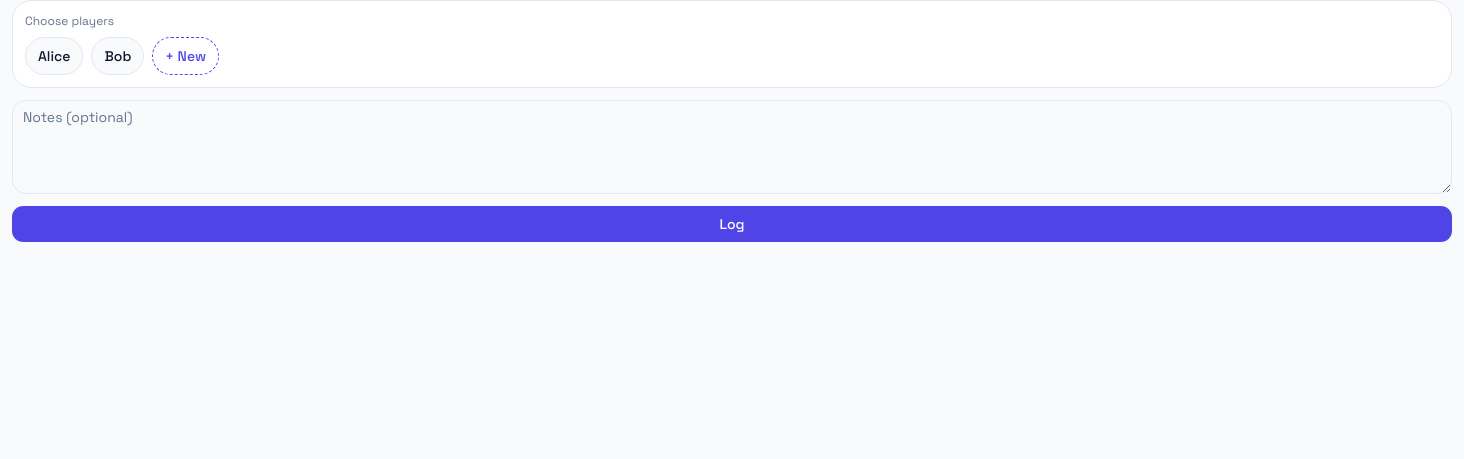
it: SessionForm single-grid select-then-score › removes an on-the-fly player when its grid chip is tapped
Click the button "+ New": (186, 56) [152,37,219,75]
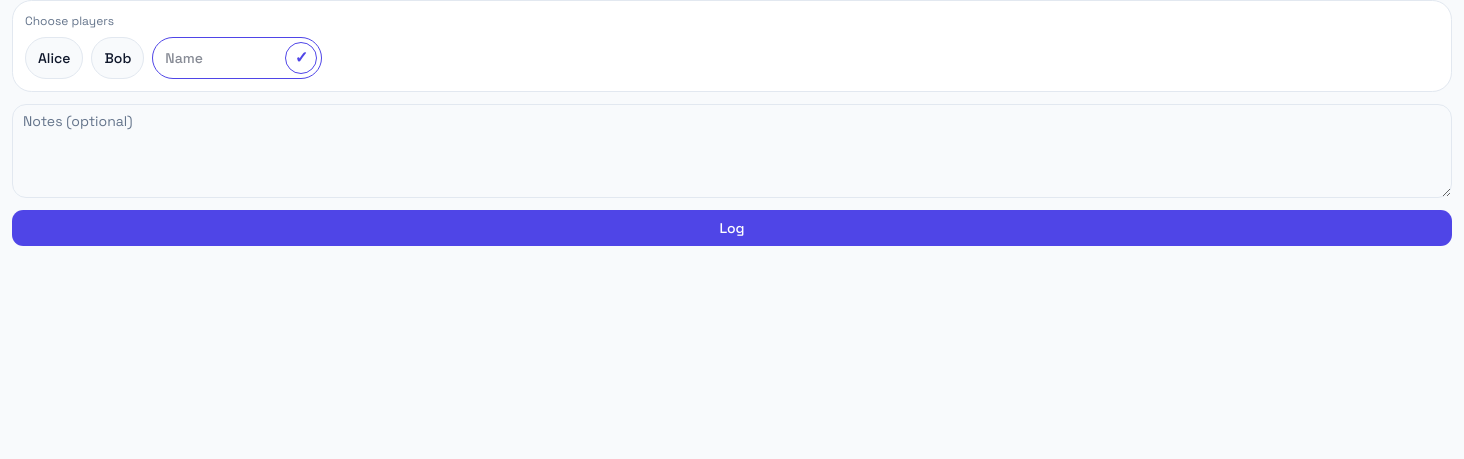
In the field named "new player name": (221, 58) [165,48,277,68], type "Carol"
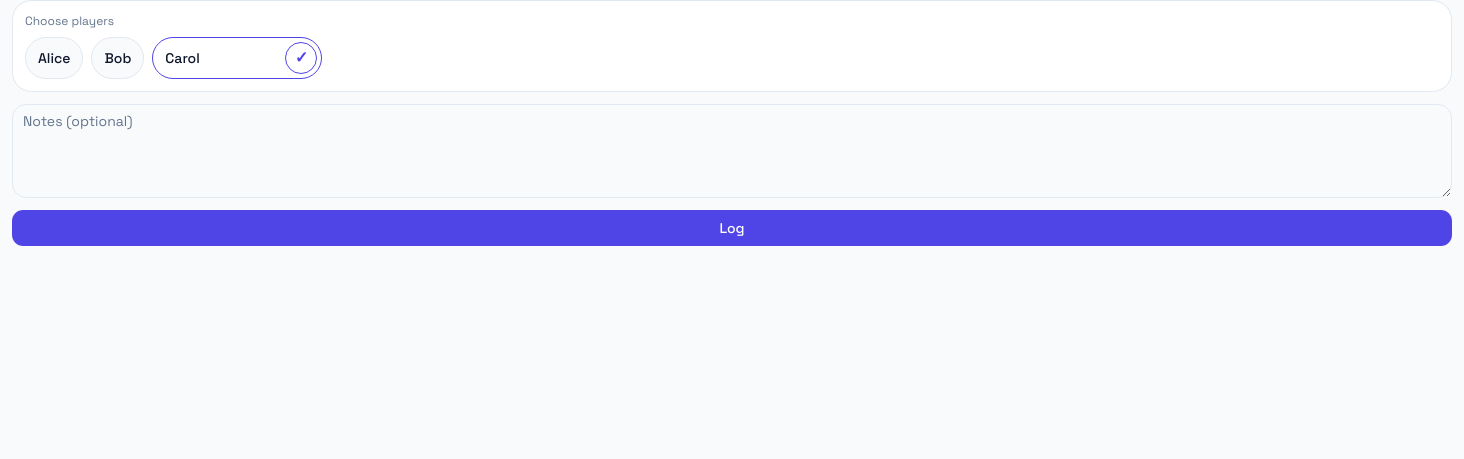
Press the mouse on the button named "add player": (301, 58) [285,42,317,74]
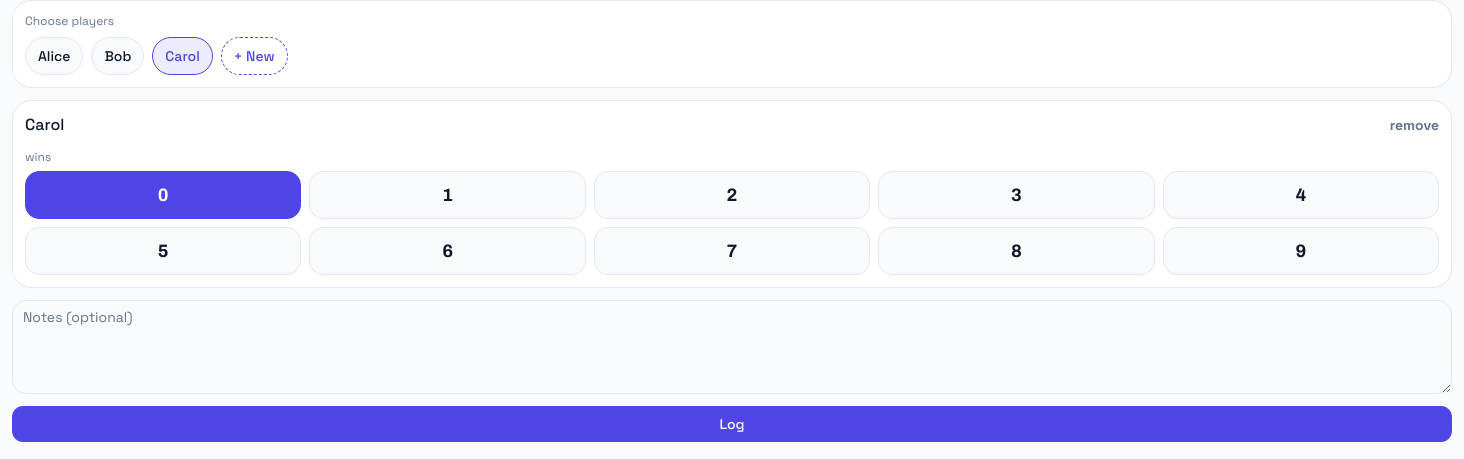
Now the element "Carol" is shown, box [12,100,1452,288]
Click the button "Carol": (183, 56) [152,37,213,75]
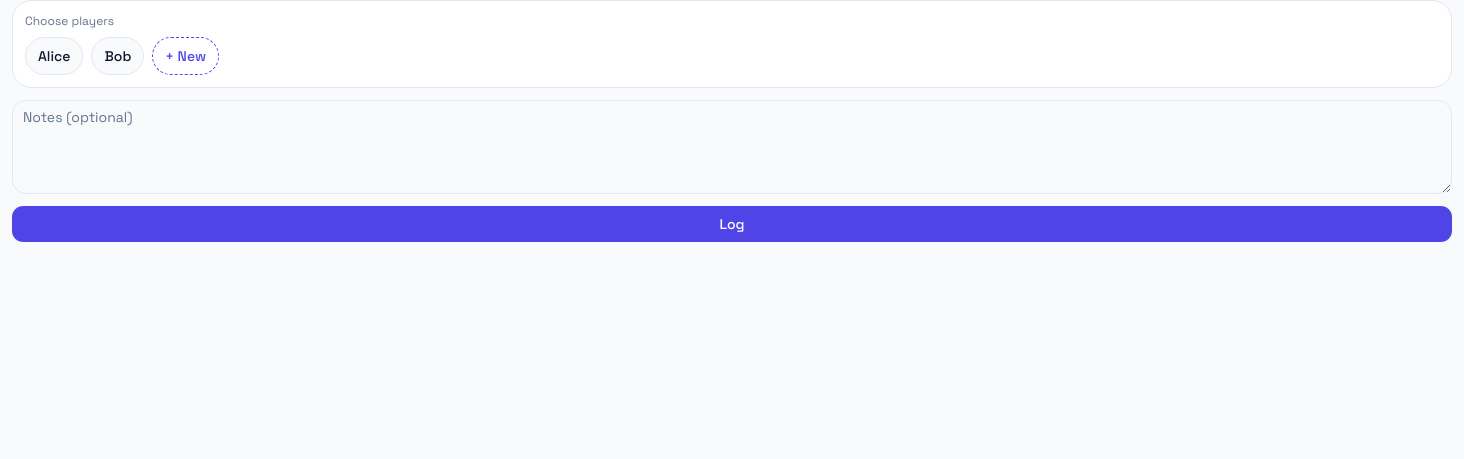
Now the button "Carol" is gone
